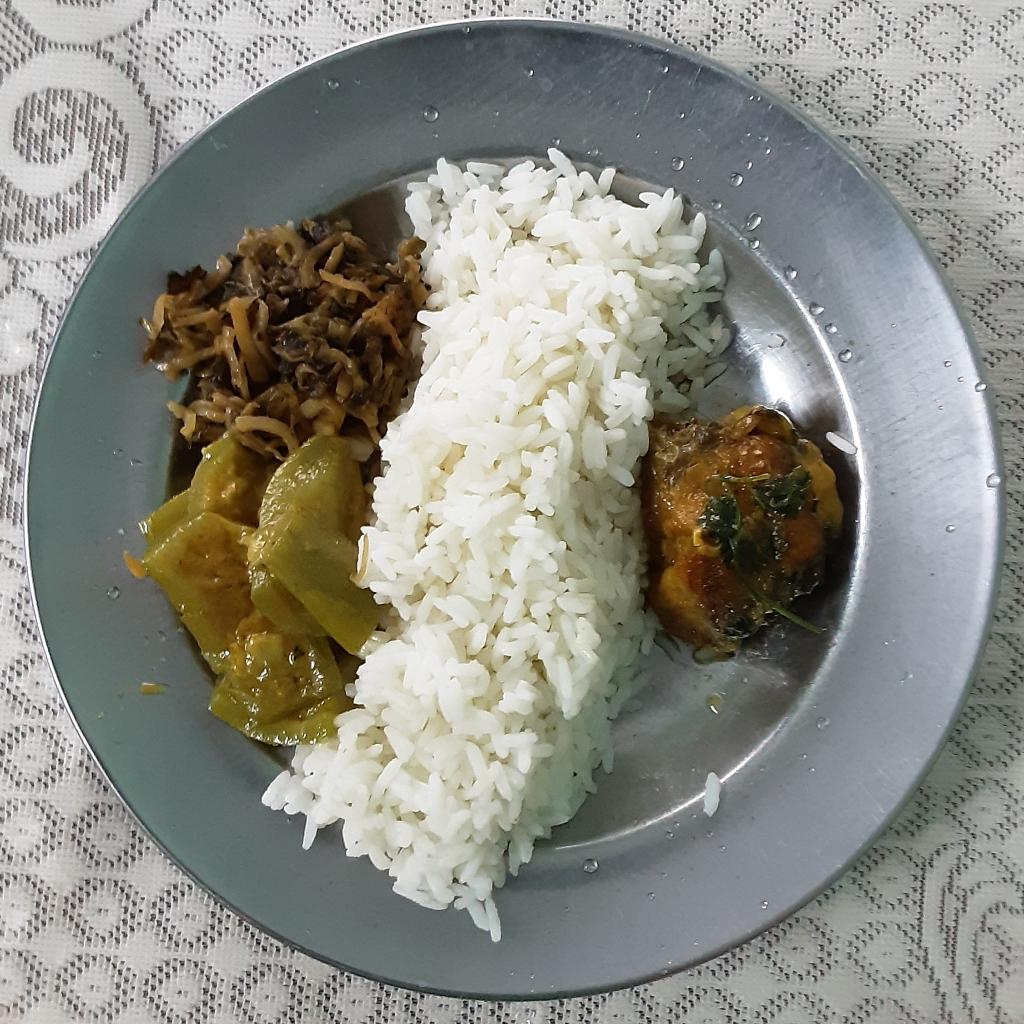chichinga-vaji: (139, 435, 391, 750)
fish: (641, 396, 846, 653)
korola-vaji: (138, 214, 427, 458)
rice: (261, 148, 736, 932)
